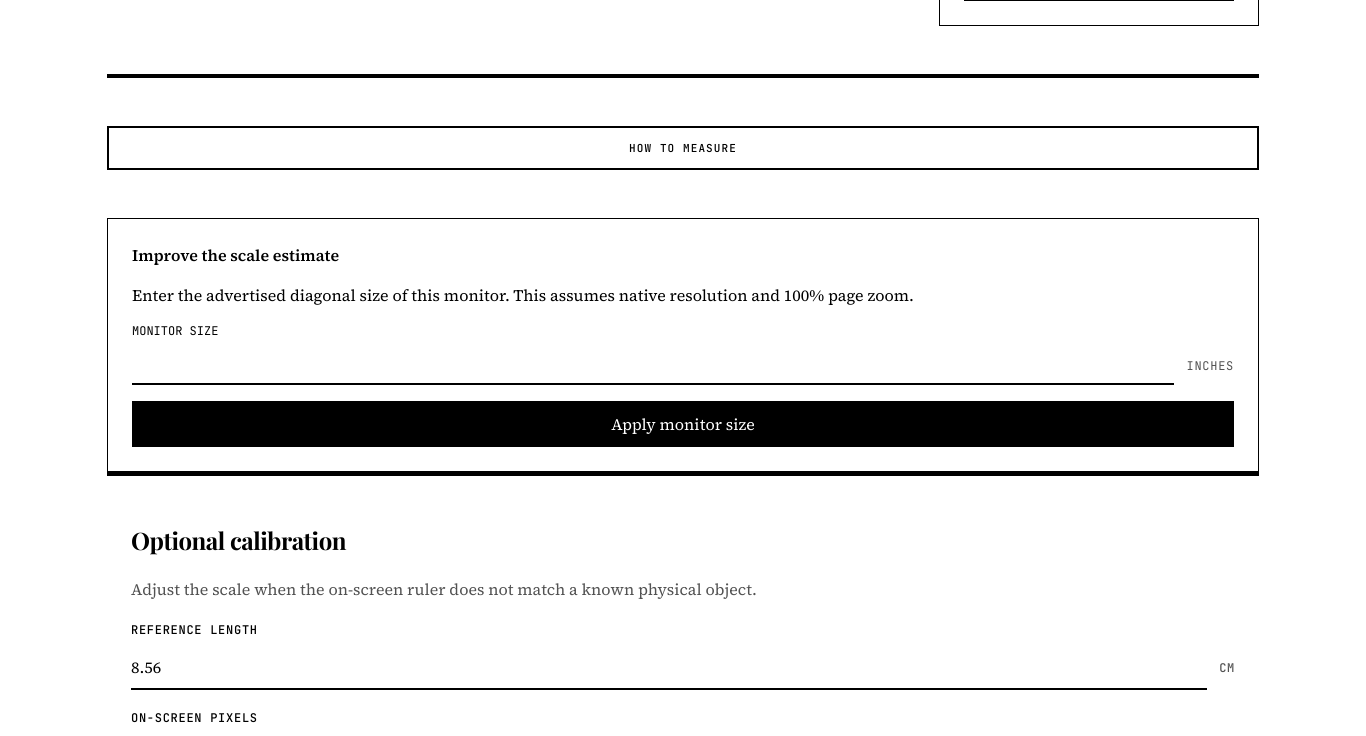
Test: App › accepts and remembers an unknown monitor's diagonal size
The width and height of the screenshot is (1366, 736).
(page scrolled)
In the number field labelled "Monitor size inches": {"x": 653, "y": 366} x1=132 y1=346 x2=1174 y2=384, type "27"
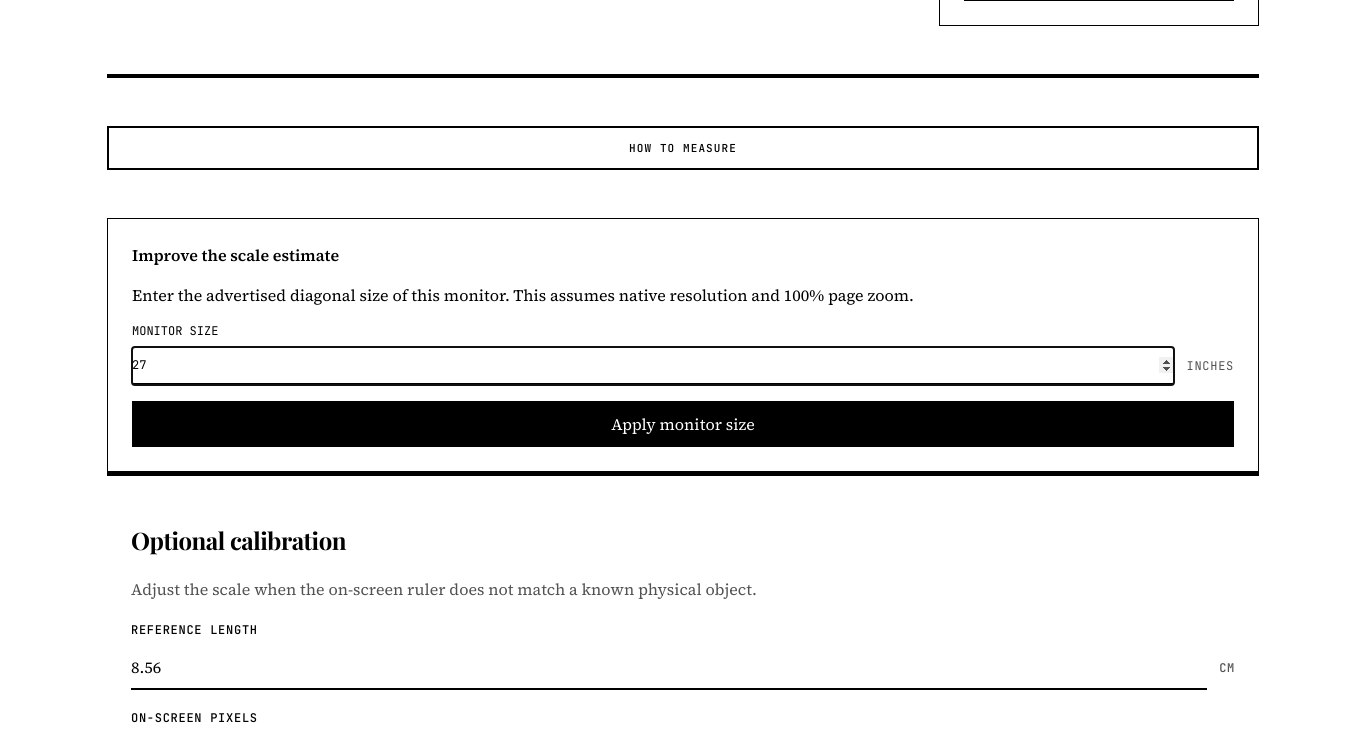
Click the button "Apply monitor size": {"x": 683, "y": 424} x1=132 y1=400 x2=1234 y2=446
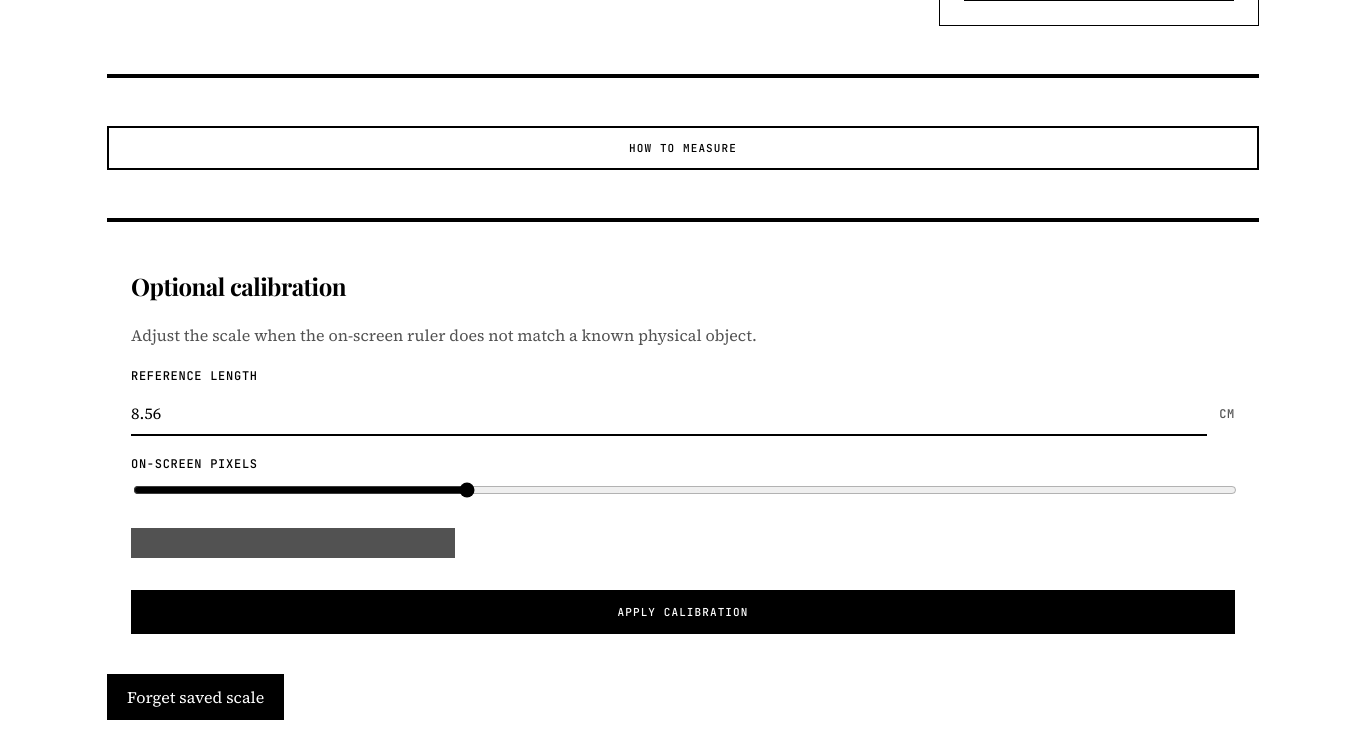
Check: the button "Forget saved scale" is shown, box x1=107 y1=674 x2=284 y2=720
